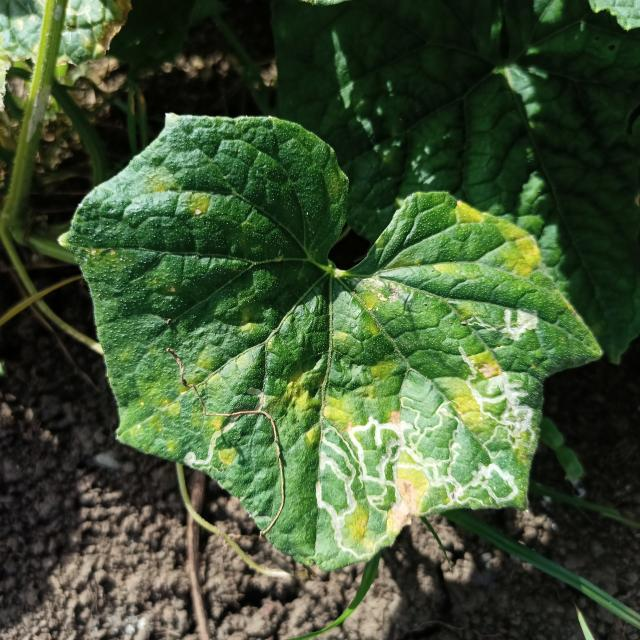disease_cucumber: (283, 283, 555, 540), (155, 322, 284, 469), (433, 194, 545, 284), (142, 170, 213, 220)
